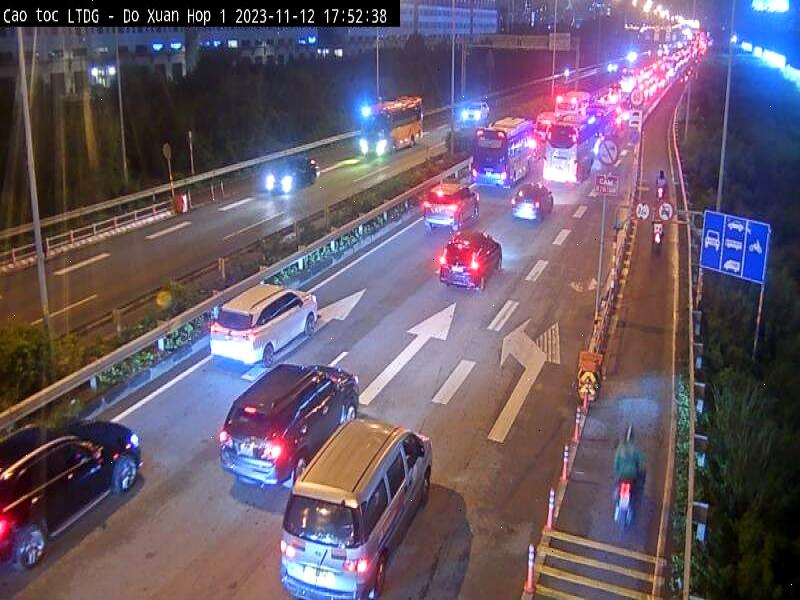bus: (354, 92, 430, 164), (473, 115, 540, 190)
